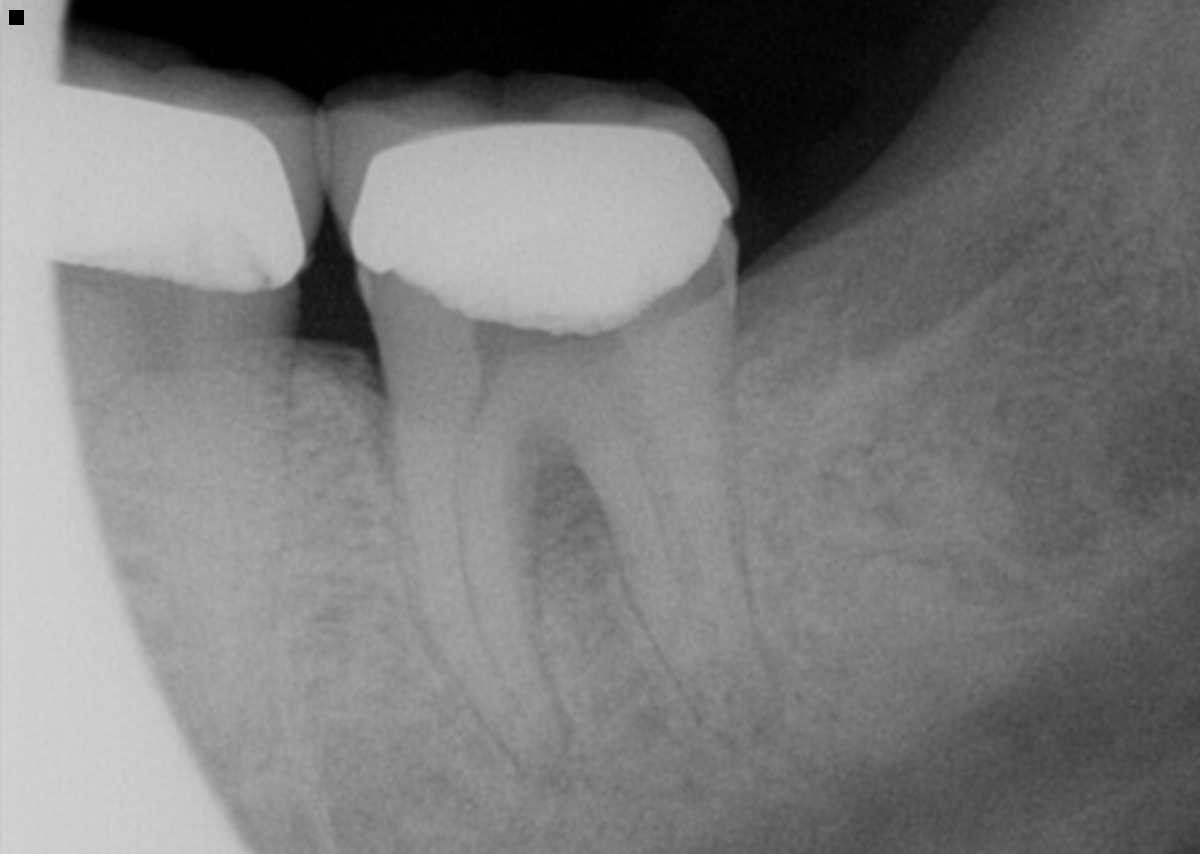Distal Canal: (614, 400, 715, 648)
Distal Root: (558, 361, 783, 752), (135, 382, 294, 774)
Mesial Canal: (453, 444, 544, 749)
Mesial Root: (393, 438, 571, 784)
